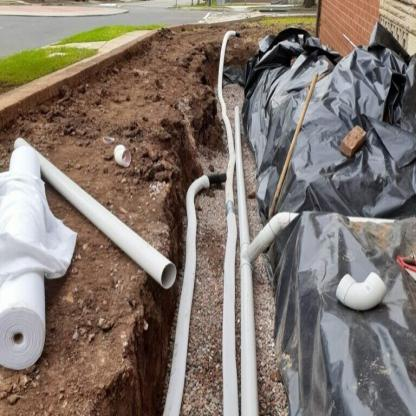PVC: (233, 107, 395, 415), (13, 136, 176, 287)
